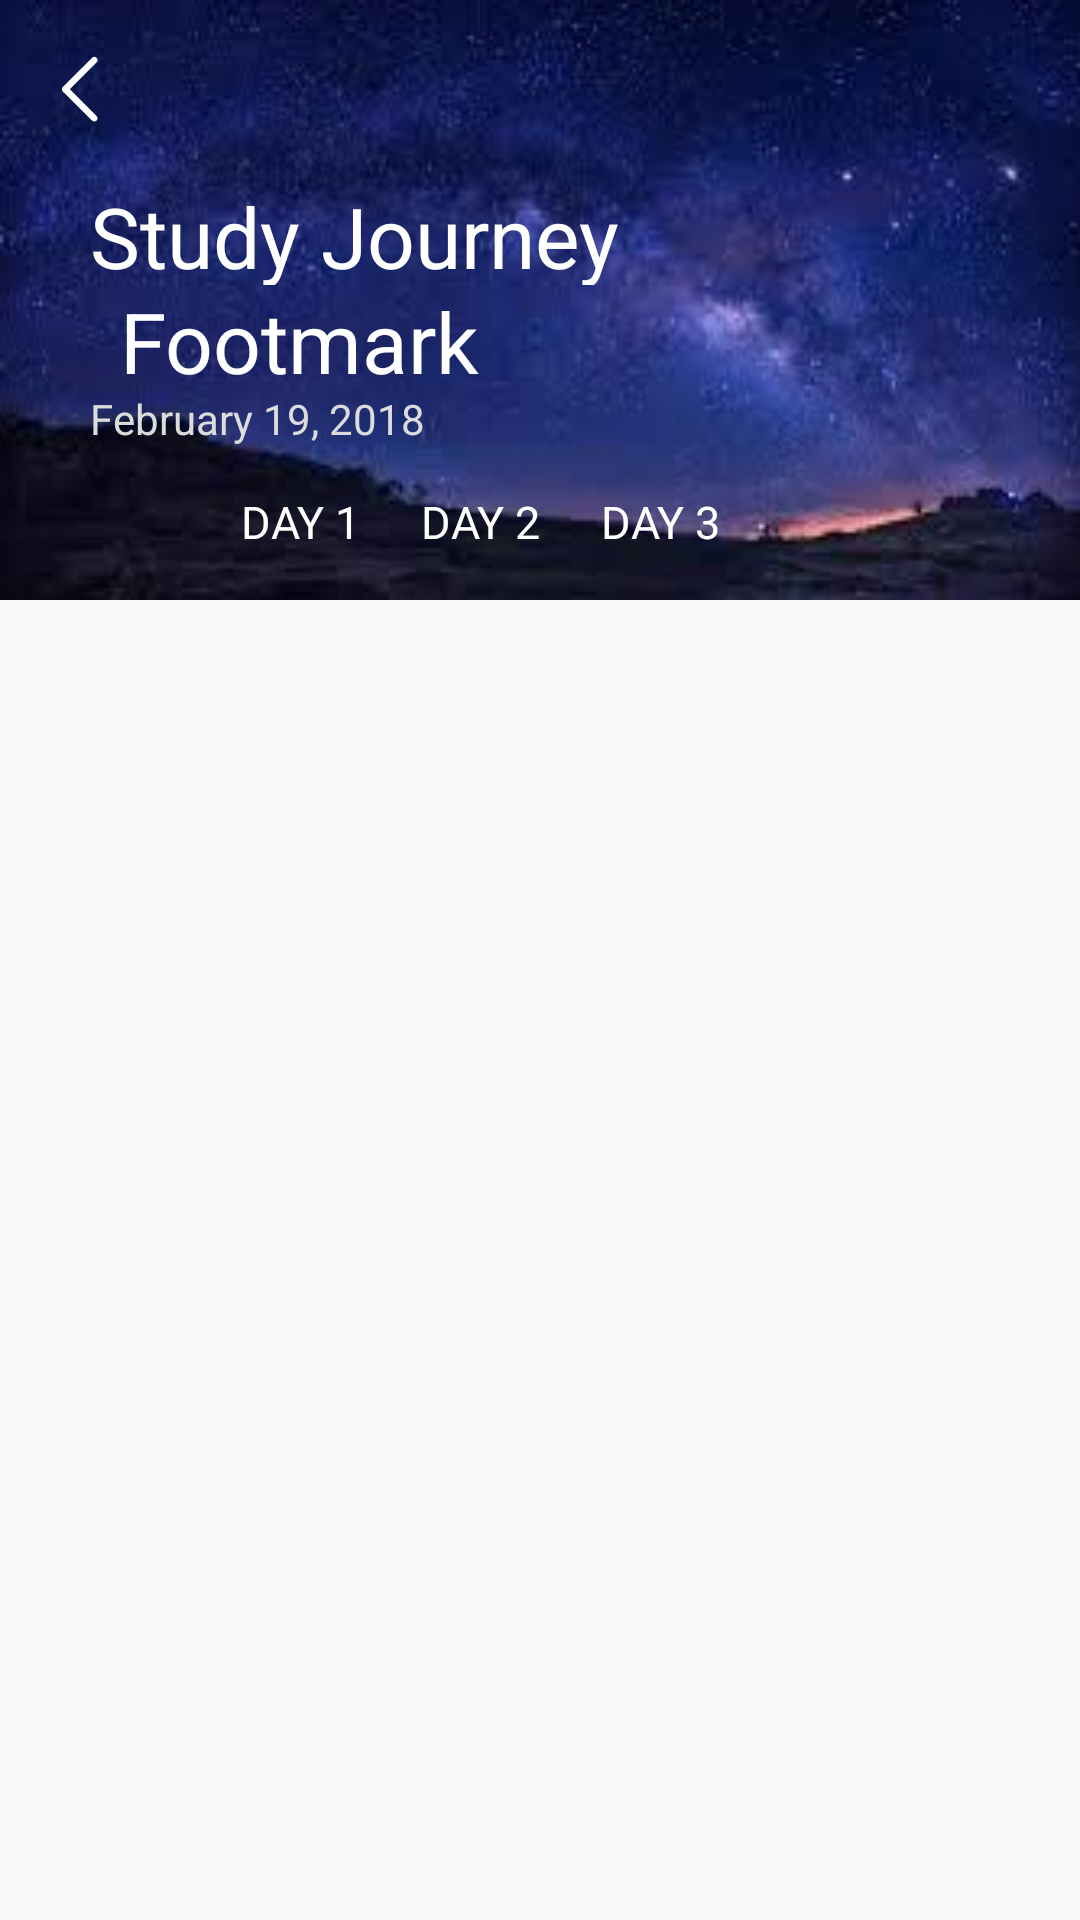

Icon bounding boxes for this 1080w x 1920h phone screenshot, format (left=x1, top=y1, right=x2, bottom=y2):
arrow back: (left=62, top=56, right=98, bottom=122)
